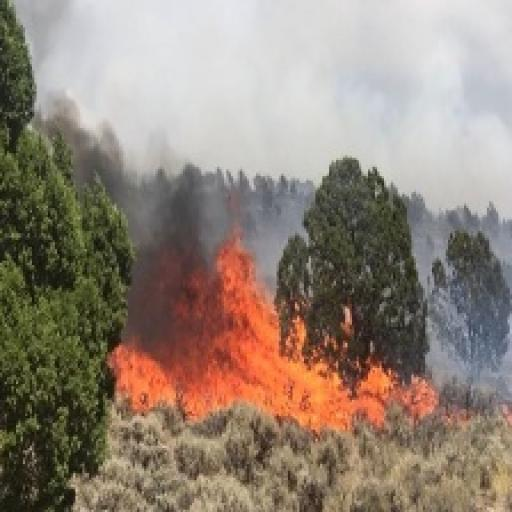fire and smoke: (42, 103, 436, 429), (112, 236, 436, 429)
